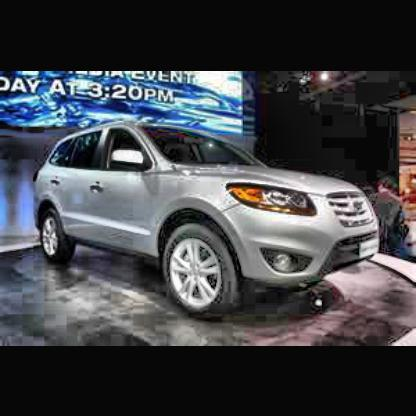Hyundai Santa Fe SUV 2012: (35, 124, 384, 319)
